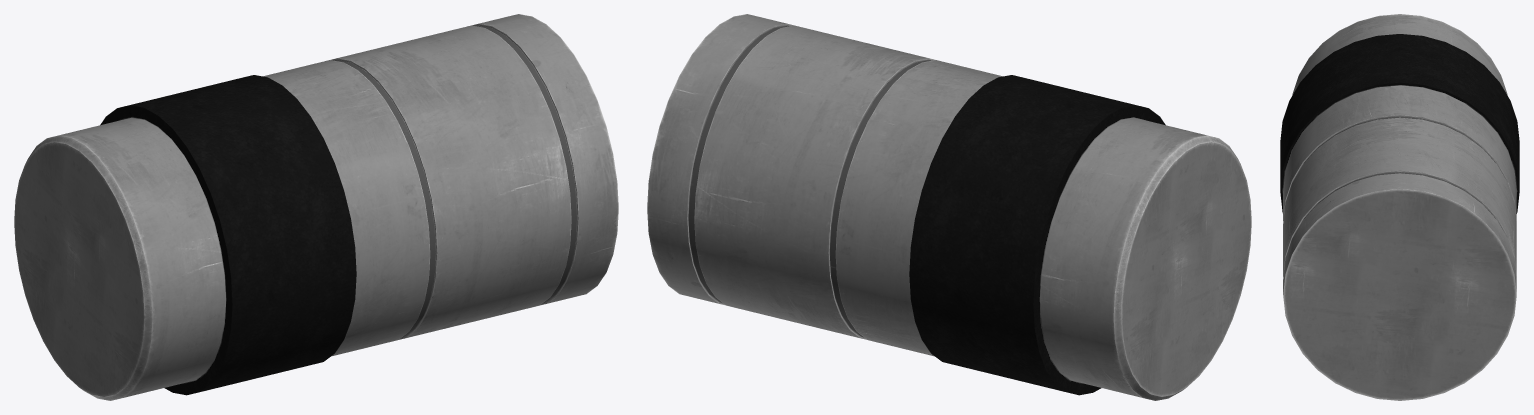
File: pommel_6_c_a.glb
3 renders of one model, left to right at view 1: azimuth 30°, elevation 25°; view 2: azimuth 150°, elevation 25°; view 3: azimuth 270°, elevation 25°, orthographic. The views are drawn at different scales.
Parts seen in each view (by area): view 1: pommel_6_c_a_lod0; view 2: pommel_6_c_a_lod0; view 3: pommel_6_c_a_lod0.
Boxes of the visible parts, box(x1,y1,x2,y2) form: pommel_6_c_a_lod0: box(14, 14, 618, 400); pommel_6_c_a_lod0: box(647, 14, 1251, 400); pommel_6_c_a_lod0: box(1280, 14, 1519, 400).
Size of what is drawn, in the model's own units: 0.0491 by 0.027 by 0.027.
1 material, 1 textured.
